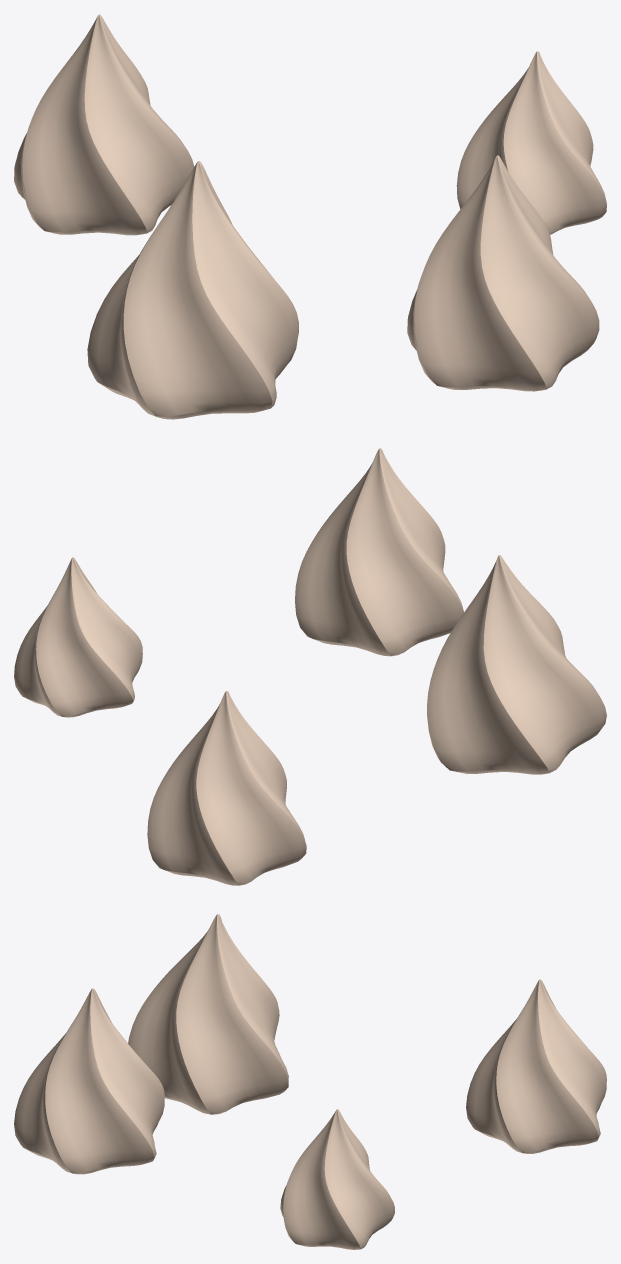
File: DecoMeringue.glb
3 renders of one model, top to bottom at view 1: azimuth 30°, elevation 25°; view 2: azimuth 150°, elevation 25°; view 3: azimuth 270°, elevation 25°, orthographic. The views are drawn at different scales.
Parts seen in each view (by area): view 1: Star.030, Star.032, Star.033, Star.031; view 2: Star.030, Star.032, Star.033, Star.031; view 3: Star.030, Star.032, Star.033, Star.031.
Part boxes in pixels (x1,y1,x2,y2): Star.030: [87, 161, 298, 419]; Star.032: [407, 155, 599, 391]; Star.033: [14, 14, 194, 235]; Star.031: [456, 51, 606, 234]; Star.030: [427, 555, 606, 774]; Star.032: [295, 448, 463, 656]; Star.033: [147, 691, 306, 885]; Star.031: [14, 557, 142, 717]; Star.030: [128, 914, 288, 1114]; Star.032: [14, 988, 164, 1174]; Star.033: [466, 979, 606, 1153]; Star.031: [280, 1109, 394, 1249].
Bounding box in the file's own units: 1.19 × 0.483 × 1.39.
